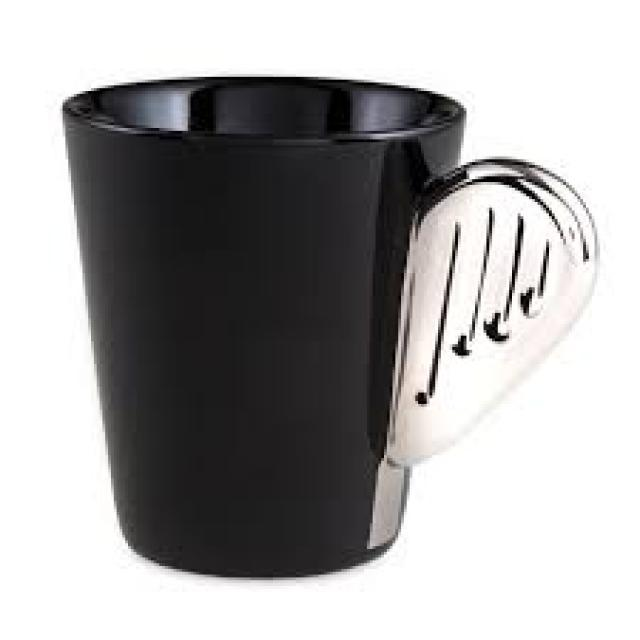taza: (61, 72, 599, 580)
